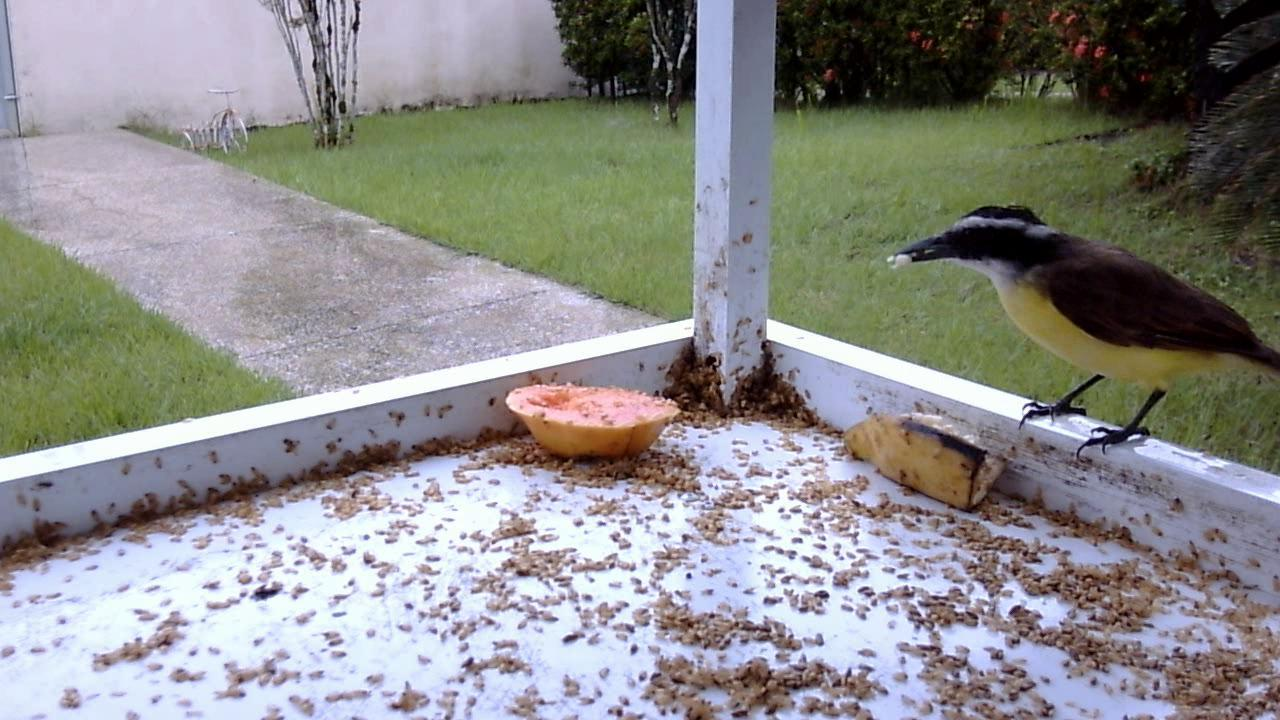bem_te_vi: (881, 189, 1275, 485)
